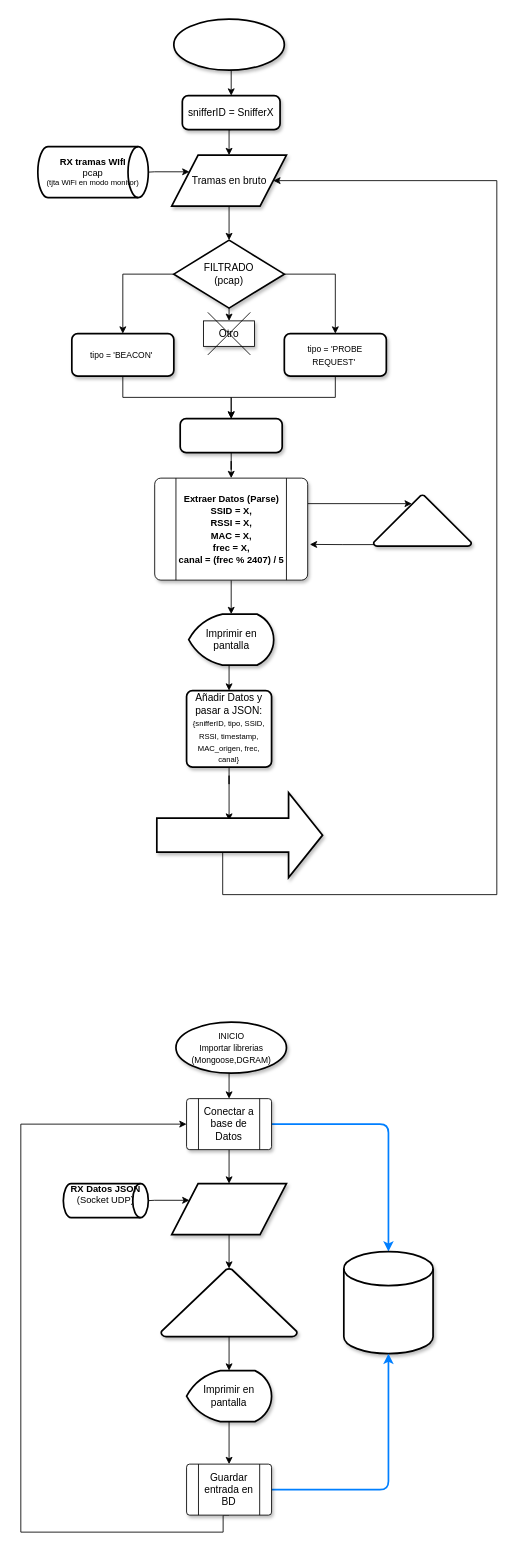
Image size: 519x1554. Some labels were removed from this diagram. Each missing label, with the centre of its shape:
Datos JSON: point (229, 1210)
Extraer Datos: snifferID, tipo, SSID, RSSI, timestamp, MAC_origen, frec, canal: point (229, 1303)
Funciones especificas para extraer datos de bytes en bruto según tipo y tjta: point (423, 521)
INICIO Importar librerias (Pcap,DGRAM): point (229, 45)
MongoDB Atlas (BD en la nube, capada): point (389, 1303)
timestamp = new Date con ms: point (232, 436)
TX DATOS a server mediante Sockets UDP: point (240, 836)
